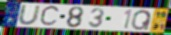1: (123, 9, 133, 30)
3: (88, 7, 106, 29)
8: (66, 6, 85, 29)
C: (38, 5, 61, 28)
Q: (130, 9, 153, 31)
U: (18, 5, 42, 26)
